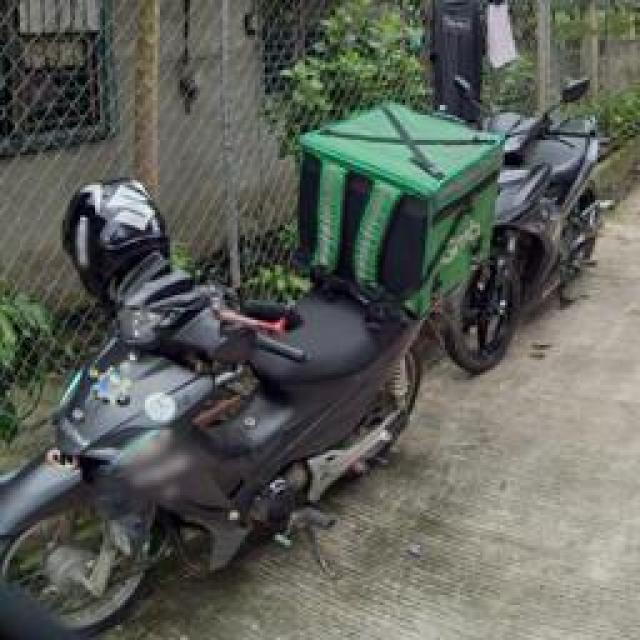motorbike: (0, 175, 420, 640), (445, 62, 613, 378)
